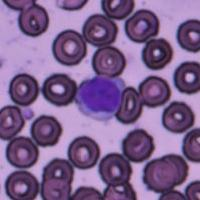L: (74, 74, 125, 120)
